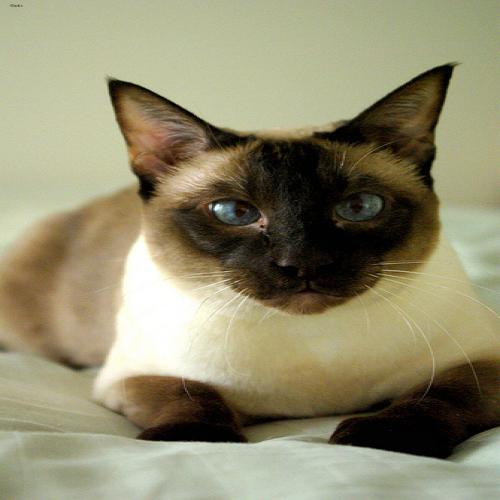siamese: (89, 58, 489, 338)
